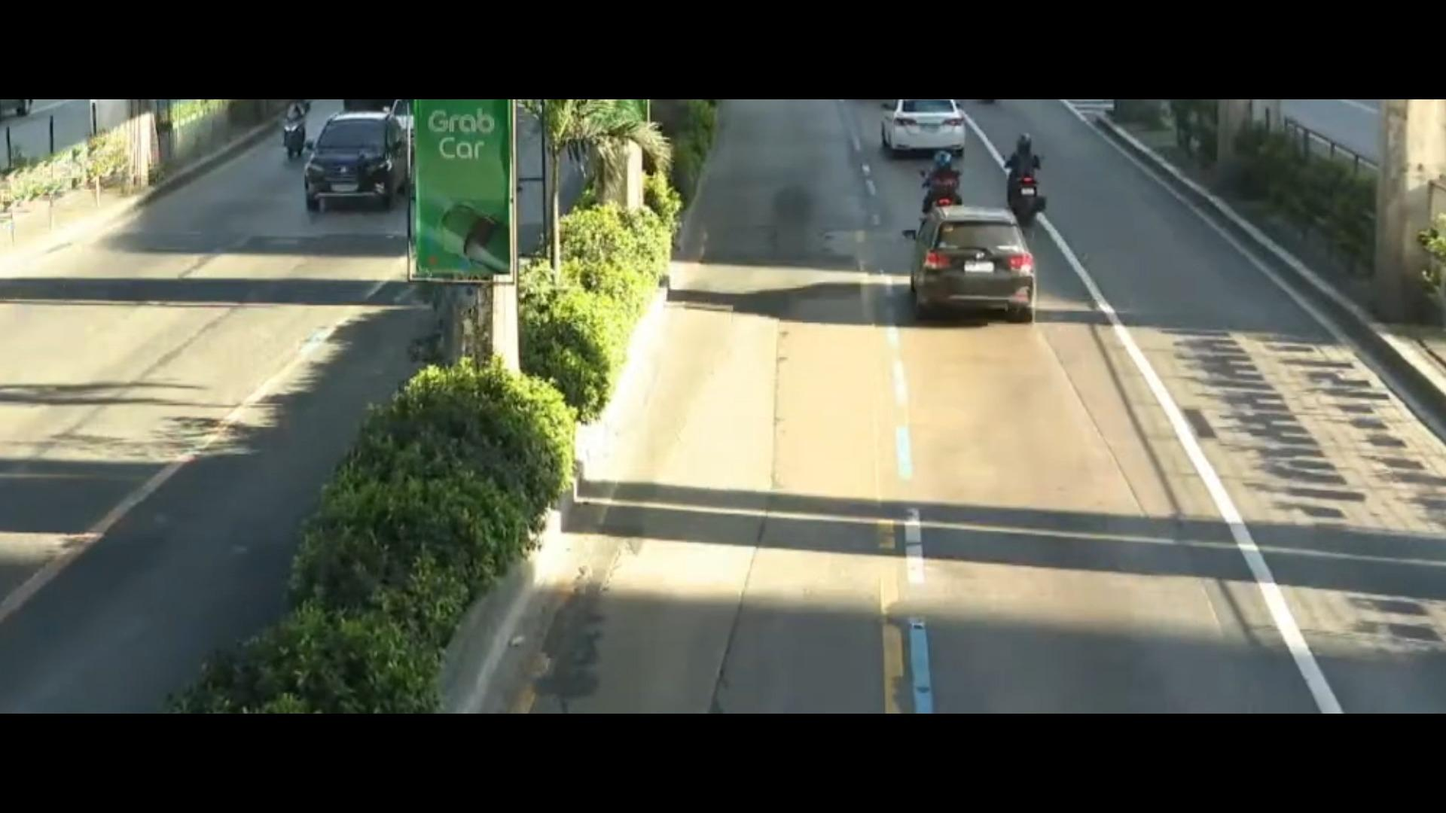Motorcycle: (902, 142, 976, 232), (1001, 121, 1062, 226), (272, 107, 316, 160)
SUV: (296, 102, 412, 254)
Sedan: (875, 209, 1079, 312)
